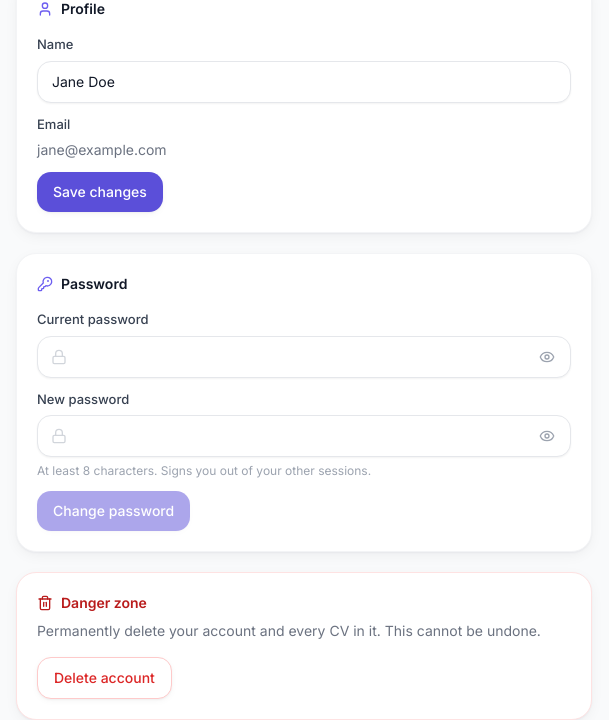
Test: AccountSettingsPage › danger zone › shows an error and does not sign out on an incorrect password
(page scrolled)
Click the button "Delete account". click: (104, 678)
box: [37,657,172,699]
(page scrolled)
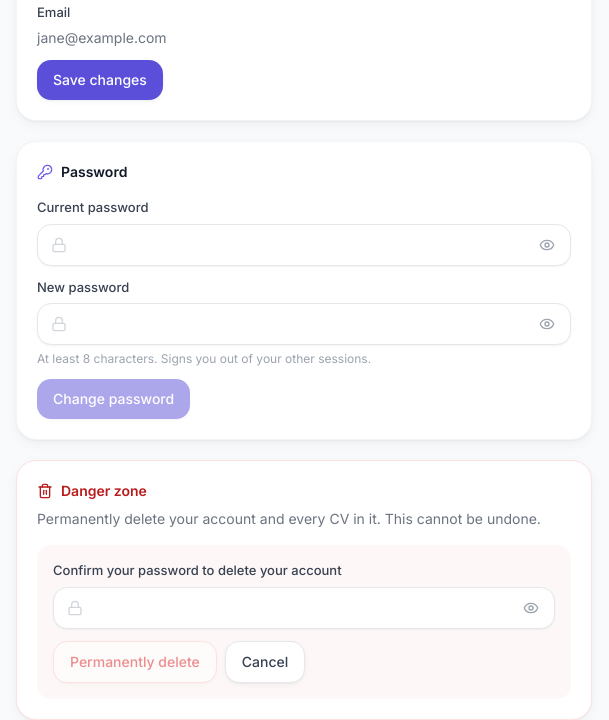
Type "wrong" into the password field labelled "Confirm your password to delete your account". click: (304, 608)
box: [53,586,555,628]
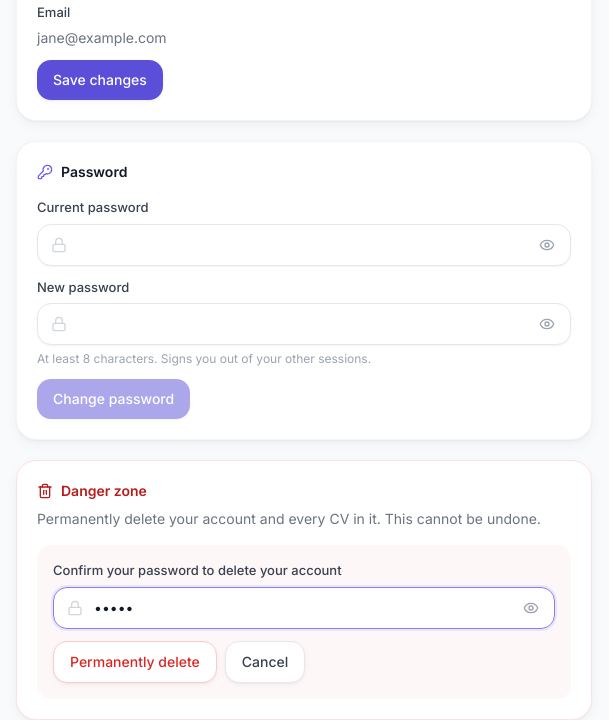
Click the button "Permanently delete". click: (135, 662)
box: [53,640,217,682]
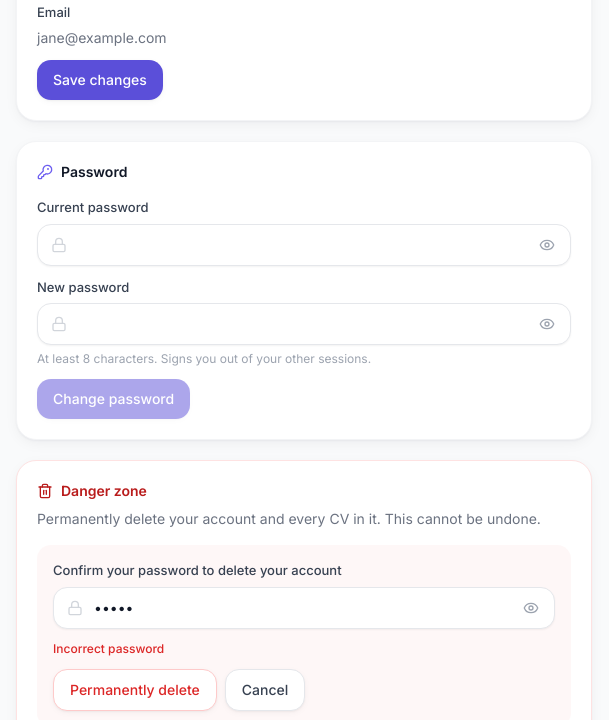
Check: the text "Incorrect password" is shown, box [53,640,164,656]
